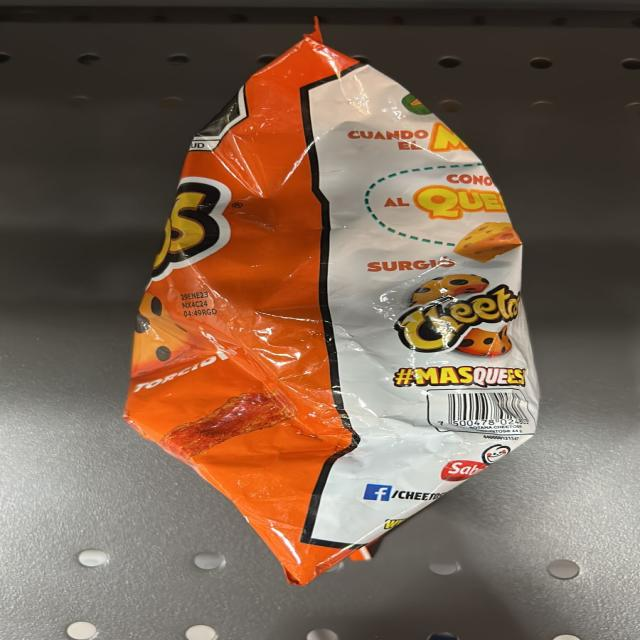cheetosOriginal: (172, 58, 424, 574)
